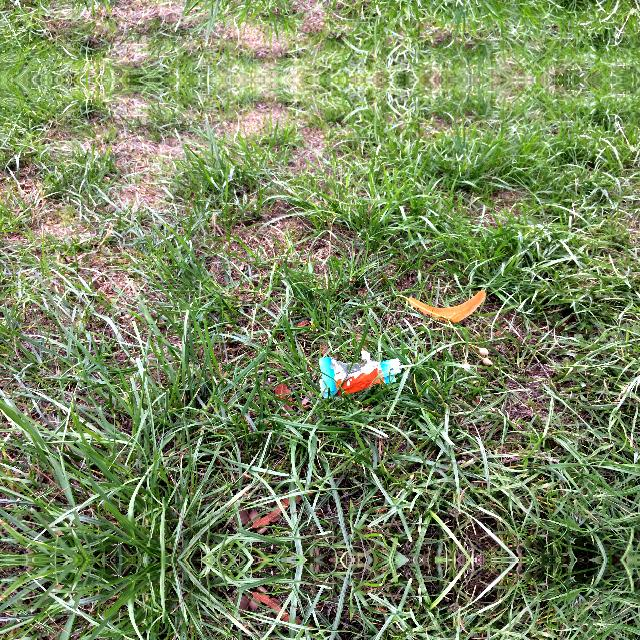Plastic: (314, 349, 404, 403)
